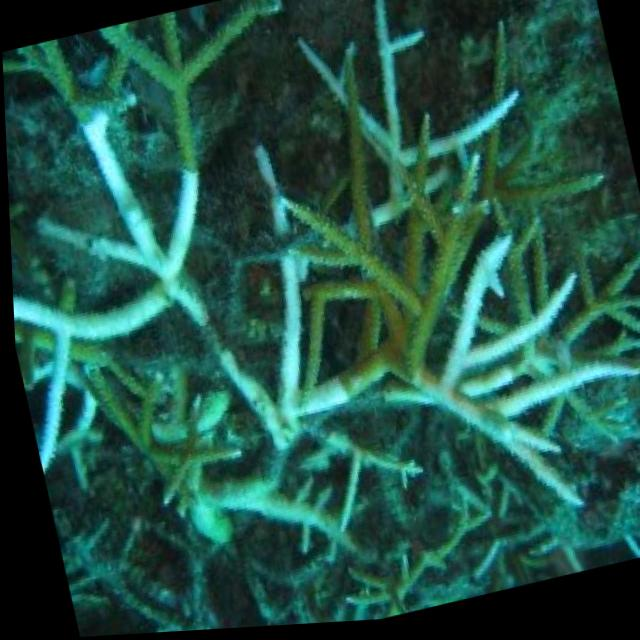Bleached Coral: (370, 230, 640, 573), (3, 85, 287, 382), (157, 309, 406, 590), (275, 0, 547, 247)
